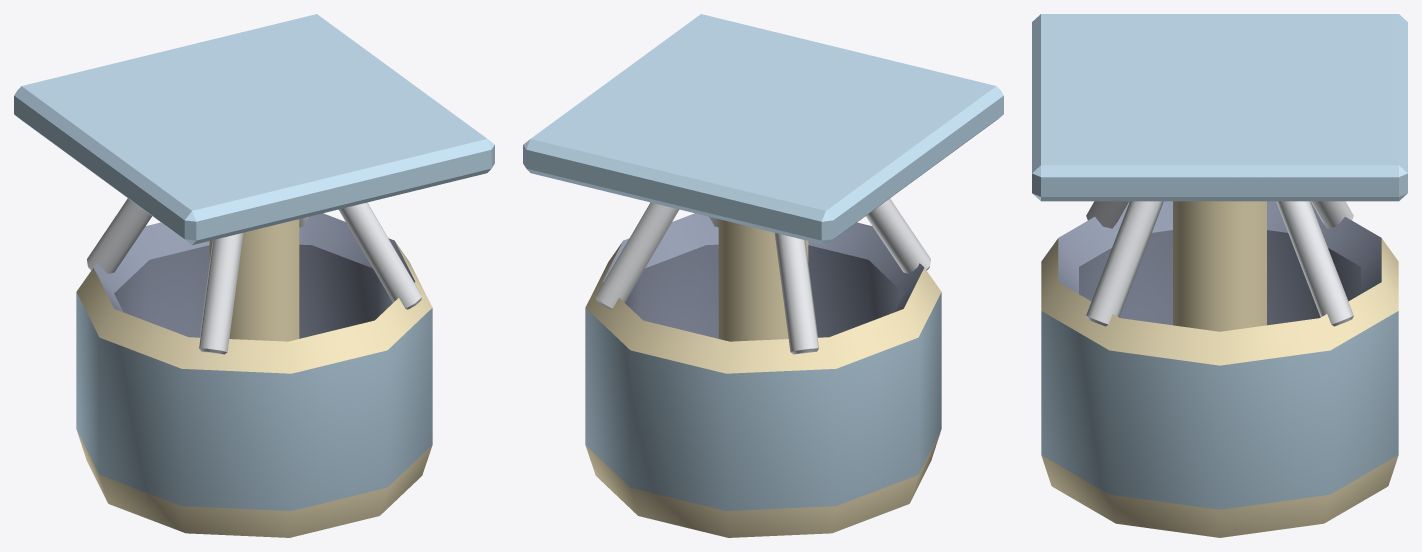
The model's file is R4M_HoverEngine_LOD1.glb.
3 views of the same model, side by side, from view 1: azimuth 30°, elevation 25°; view 2: azimuth 150°, elevation 25°; view 3: azimuth 270°, elevation 25° (orthographic). The views are drawn at different scales.
Visible parts, largest first — view 1: R4M_HoverEngine_LOD1; view 2: R4M_HoverEngine_LOD1; view 3: R4M_HoverEngine_LOD1.
Part boxes in pixels (x1,y1,x2,y2): R4M_HoverEngine_LOD1: (14, 14, 494, 537); R4M_HoverEngine_LOD1: (523, 14, 1003, 537); R4M_HoverEngine_LOD1: (1032, 14, 1407, 537).
Size of the model in its own units: 0.52 by 0.577 by 0.52.
